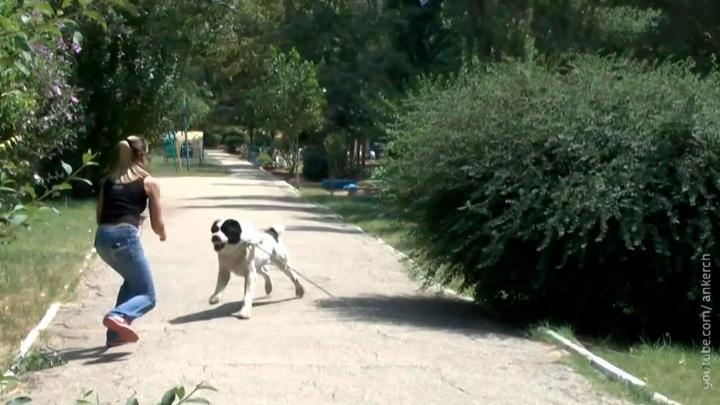dog_aggressive: (210, 214, 304, 318)
